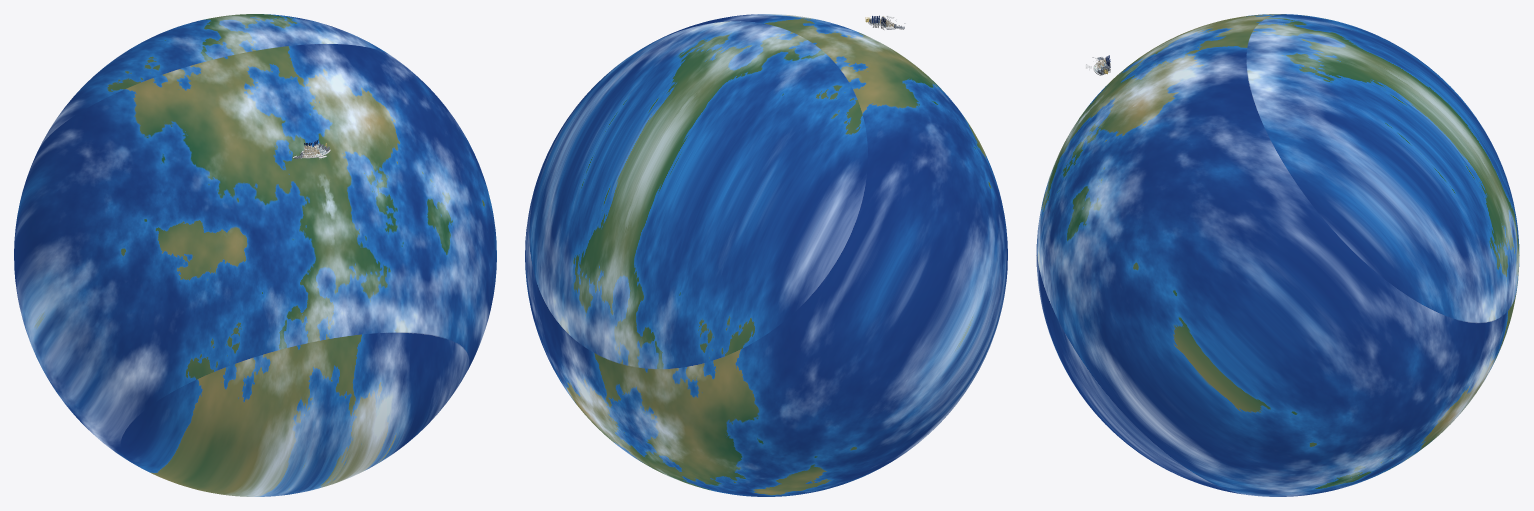
Rendered from revatya_orbital_city.glb.
3 renders of one model, left to right at view 1: azimuth 30°, elevation 25°; view 2: azimuth 150°, elevation 25°; view 3: azimuth 270°, elevation 25°, orthographic.
Parts seen in each view (by area): view 1: Earth_Surface_Sphere; view 2: Earth_Surface_Sphere; view 3: Earth_Surface_Sphere.
Boxes of the visible parts, x1,y1,x2,y2 form: Earth_Surface_Sphere: (14,14,496,496); Earth_Surface_Sphere: (525,14,1007,496); Earth_Surface_Sphere: (1036,14,1519,496).
Bounding box in the file's own units: 5600 × 5600 × 5600.
24 materials, 8 textured.
